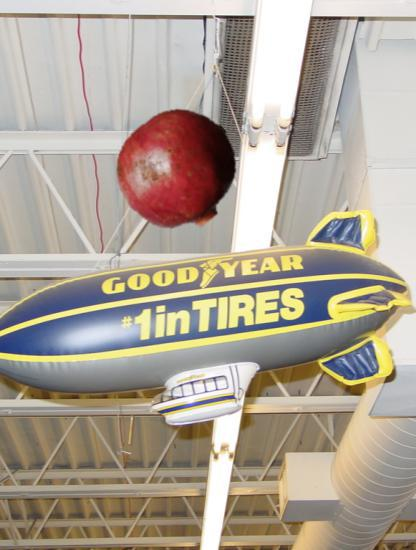Pomegranate: (117, 109, 240, 232)
